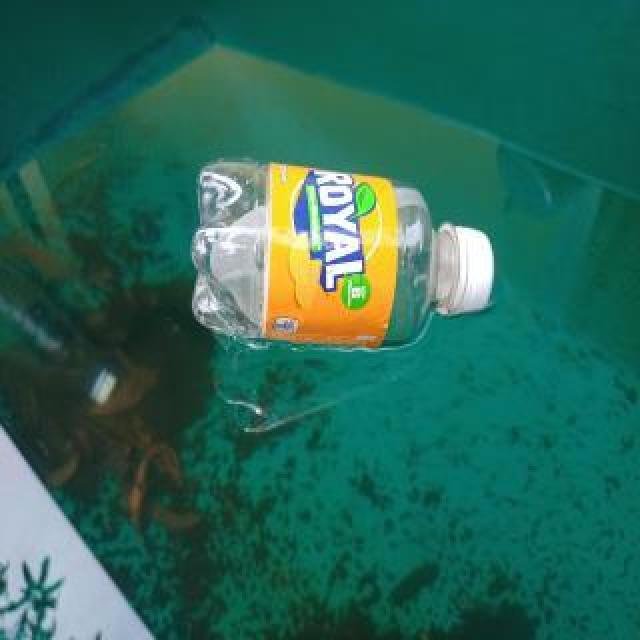bottle: (193, 155, 495, 353)
